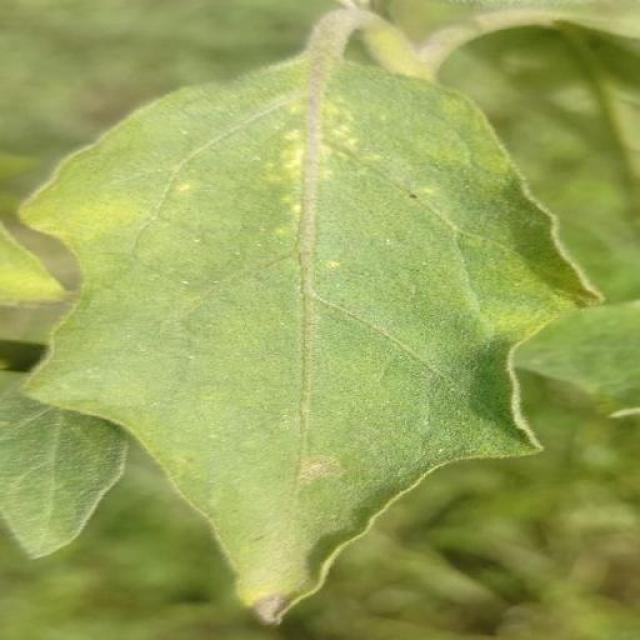leaf_spot: (0, 301, 203, 496), (0, 142, 209, 256), (453, 200, 608, 348), (266, 54, 345, 282), (59, 78, 264, 158), (225, 558, 343, 640), (0, 218, 66, 312), (358, 45, 452, 86), (360, 16, 418, 61), (292, 451, 350, 491)
